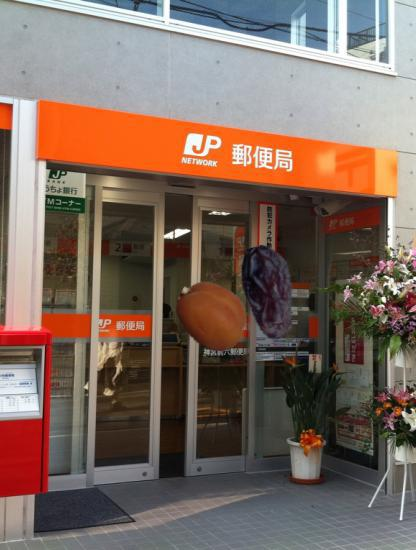Apricot: (174, 279, 249, 354)
Dates: (222, 245, 317, 340)
